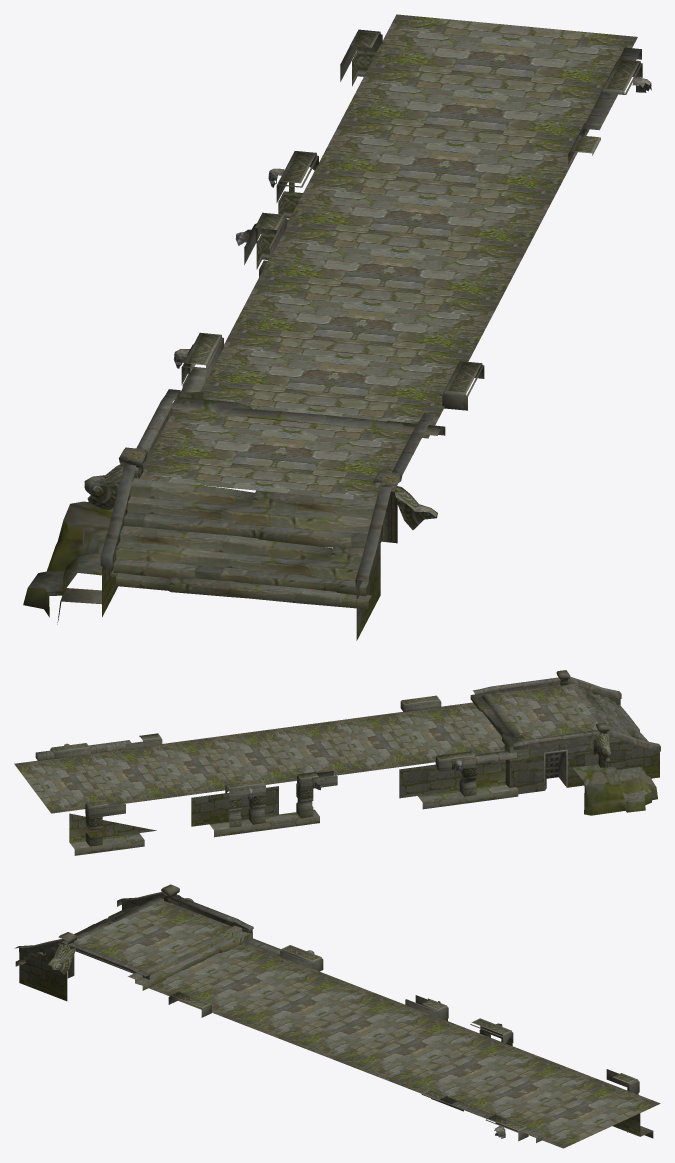
Rendered from S2_Build_XSC062_H1.FBX.
3 views of the same model, one above another, from view 1: azimuth 30°, elevation 25°; view 2: azimuth 150°, elevation 25°; view 3: azimuth 270°, elevation 25° (orthographic). The views are drawn at different scales.
Parts seen in each view (by area): view 1: S2_Build_XSC062_H1; view 2: S2_Build_XSC062_H1; view 3: S2_Build_XSC062_H1.
Boxes of the visible parts, x1,y1,x2,y2 form: S2_Build_XSC062_H1: [23, 14, 651, 640]; S2_Build_XSC062_H1: [14, 670, 660, 855]; S2_Build_XSC062_H1: [14, 884, 660, 1148].
Size of the model in its own units: 8087 by 1138 by 8263.
